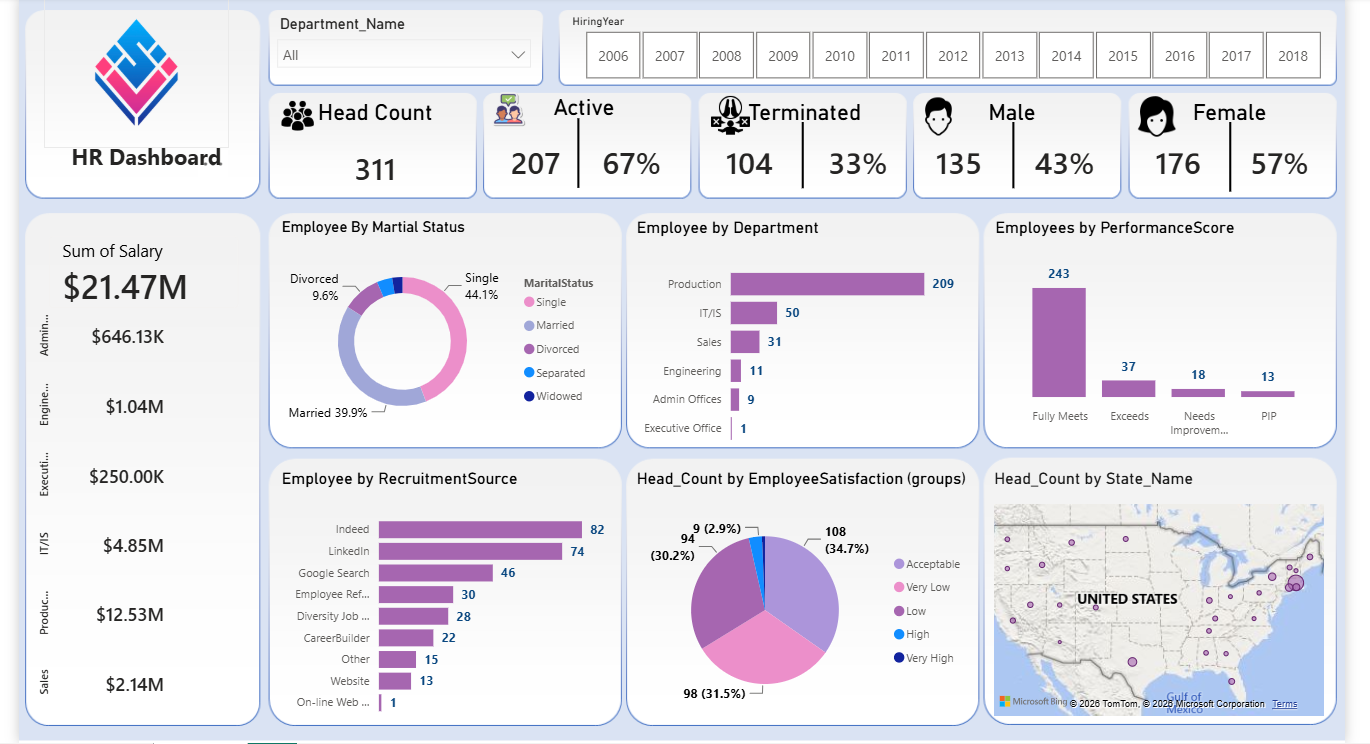

The dashboard page shown, as its layout file describes it:
{"tool":"powerbi","page":{"name":"Page 1","canvas":[1280,720],"ordinal":0},"visuals":[{"type":"donutChart","title":"Employee By Martial Status","fields":{"Category":["HRData.MaritalStatus"],"Y":["HRData.Head_Count"]},"box":[248.4,214.1,326.6,209.9],"z":0},{"type":"clusteredBarChart","title":"Employee by Department","fields":{"Category":["Departements.Department_Name"],"Y":["HRData.Head_Count"]},"box":[591.4,214.1,369.1,230.5],"z":1000},{"type":"clusteredColumnChart","title":"Employees by PerformanceScore","fields":{"Category":["HRData.PerformanceScore"],"Y":["HRData.Head_Count"]},"box":[937.2,214.1,328,219.6],"z":2000},{"type":"clusteredBarChart","title":"Employee by RecruitmentSource","fields":{"Category":["HRData.RecruitmentSource"],"Y":["HRData.Head_Count"]},"box":[248.4,455.6,343.1,247],"z":3000},{"type":"pieChart","fields":{"Y":["HRData.Head_Count"],"Category":["HRData.EmployeeSatisfaction (groups)"]},"box":[591.4,455.6,332.1,242.9],"z":4000},{"type":"map","fields":{"Category":["States.State_Name"],"Size":["HRData.Head_Count"]},"box":[936.7,455.7,327.8,243],"z":5000},{"type":"image","box":[24.1,0,178.6,146],"z":6000},{"type":"cardVisual","title":"Head Count","fields":{"Data":["HRData.Head_Count"]},"box":[267.8,91.7,152,108.6],"z":7000},{"type":"image","box":[248.5,98.9,41,31.4],"z":8000},{"type":"cardVisual","title":"Active","fields":{"Data":["HRData.Active","HRData.Active%"]},"box":[439.1,94.1,212.3,113.4],"z":9000},{"type":"cardVisual","title":"Terminated","fields":{"Data":["HRData.Terminated","HRData.Teminated%"]},"box":[639.4,96.5,237.7,111],"z":10000},{"type":"cardVisual","title":"Male","fields":{"Data":["HRData.Male","HRData.Male%"]},"box":[845.7,98.9,228,108.6],"z":11000},{"type":"cardVisual","title":"Female","fields":{"Data":["HRData.Female","HRData.Female%"]},"box":[1054.4,98.9,225.6,114.6],"z":12000},{"type":"image","box":[428.3,90.5,88.1,35],"z":13000},{"type":"image","box":[651.5,94.1,70,39.8],"z":14000},{"type":"image","box":[865,95.3,44.6,39.8],"z":15000},{"type":"image","box":[1073.7,94.1,48.3,42.2],"z":16000},{"type":"textbox","box":[33.8,133.9,178.6,44.6],"z":17000},{"type":"shape","box":[472.9,117,133.9,67.6],"z":18000},{"type":"shape","box":[686.5,120.6,139.9,63.9],"z":19000},{"type":"shape","box":[894,120.6,131.5,63.9],"z":20000},{"type":"shape","box":[1094.2,120.6,149.6,67.6],"z":21000},{"type":"slicer","fields":{"Values":["Departements.Department_Name"]},"box":[238.9,12.1,265.4,78.4],"z":22000},{"type":"slicer","fields":{"Values":["HRData.HiringYear"]},"box":[521.2,12.1,758.9,73.6],"z":23000},{"type":"cardVisual","fields":{"Data":["Sum(Salaries.Salary)"]},"box":[12.1,213.5,217.2,105],"z":24000},{"type":"cardVisual","fields":{"Data":["Sum(Salaries.Salary)"],"Rows":["Departements.Department_Name"]},"box":[0,267.8,380,452.4],"z":25000}]}

Visuals, with their boxes on the page's 1280x720 design canvas (x1, y1, x2, y2). These are canvas units, not pixel positions in the 1370x744 screenshot, which may show the page scaled, cropped or inside an application window:
"Employee By Martial Status" donutChart: <box>248,214,575,424</box>
"Employee by Department" clusteredBarChart: <box>591,214,960,445</box>
"Employees by PerformanceScore" clusteredColumnChart: <box>937,214,1265,434</box>
"Employee by RecruitmentSource" clusteredBarChart: <box>248,456,592,703</box>
pieChart - HRData.Head_Count x HRData.EmployeeSatisfaction (groups): <box>591,456,924,698</box>
map - States.State_Name x HRData.Head_Count: <box>937,456,1264,699</box>
image: <box>24,0,203,146</box>
"Head Count" cardVisual: <box>268,92,420,200</box>
image: <box>248,99,290,130</box>
"Active" cardVisual: <box>439,94,651,208</box>
"Terminated" cardVisual: <box>639,96,877,208</box>
"Male" cardVisual: <box>846,99,1074,208</box>
"Female" cardVisual: <box>1054,99,1280,214</box>
image: <box>428,90,516,126</box>
image: <box>652,94,722,134</box>
image: <box>865,95,910,135</box>
image: <box>1074,94,1122,136</box>
textbox: <box>34,134,212,178</box>
shape: <box>473,117,607,185</box>
shape: <box>686,121,826,184</box>
shape: <box>894,121,1026,184</box>
shape: <box>1094,121,1244,188</box>
slicer - Departements.Department_Name: <box>239,12,504,90</box>
slicer - HRData.HiringYear: <box>521,12,1280,86</box>
cardVisual - Sum(Salaries.Salary): <box>12,214,229,318</box>
cardVisual - Sum(Salaries.Salary) x Departements.Department_Name: <box>0,268,380,720</box>
